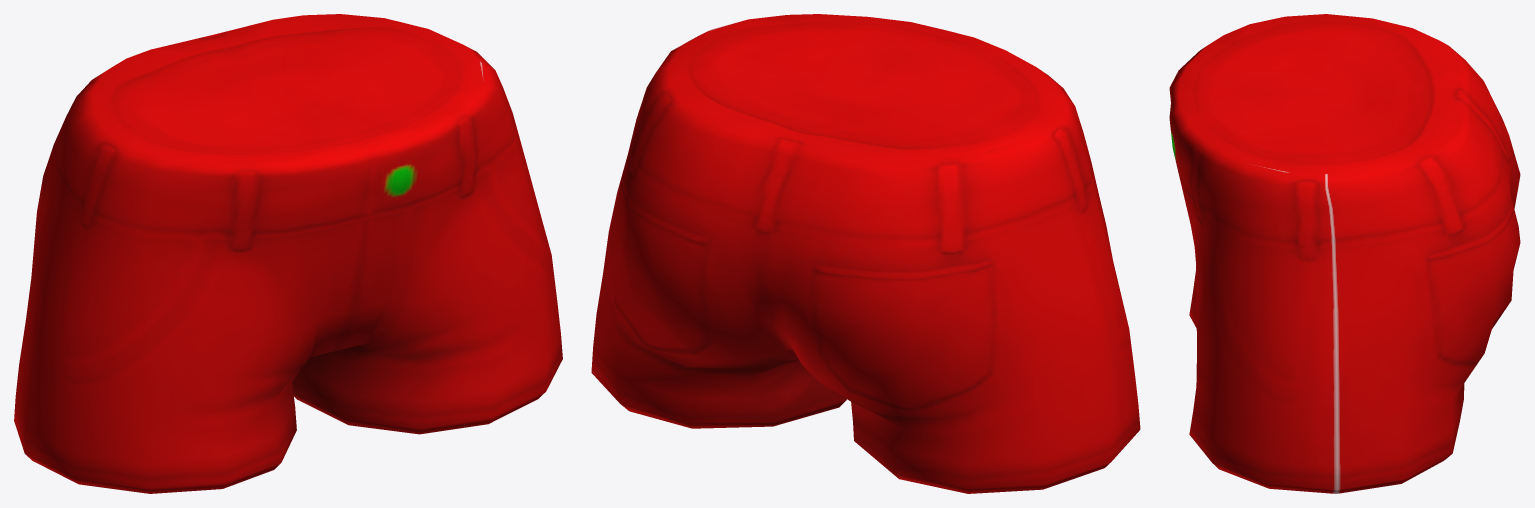
File: Bottom_ShortShorts.obj
3 renders of one model, left to right at view 1: azimuth 30°, elevation 25°; view 2: azimuth 150°, elevation 25°; view 3: azimuth 270°, elevation 25°, orthographic. The views are drawn at different scales.
Visible parts, largest first — view 1: Bottom_ShortShorts_0; view 2: Bottom_ShortShorts_0; view 3: Bottom_ShortShorts_0.
Part boxes in pixels (box(x1,y1,x2,y2)): Bottom_ShortShorts_0: box(14, 14, 562, 493); Bottom_ShortShorts_0: box(591, 14, 1140, 493); Bottom_ShortShorts_0: box(1169, 14, 1520, 493).
Bounding box in the file's own units: 0.3707 × 0.2256 × 0.2415.
1 material, 1 textured.
